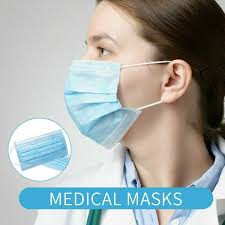mask: (63, 0, 214, 171)
